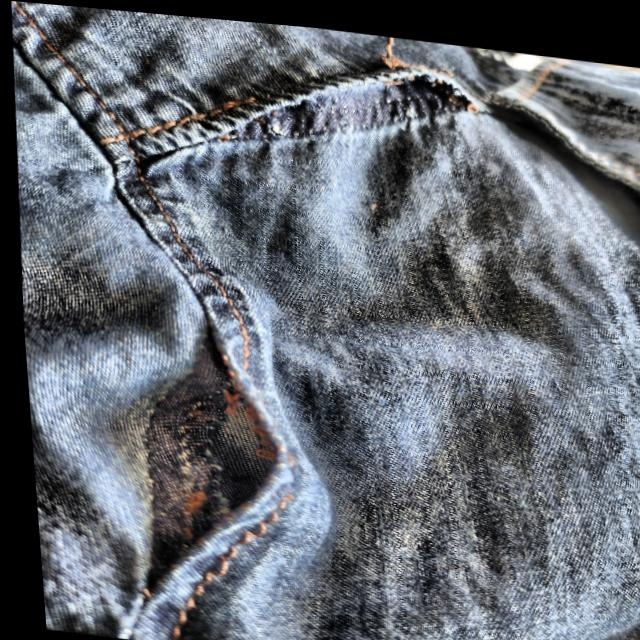seam: (55, 284, 322, 637), (175, 18, 495, 215)
